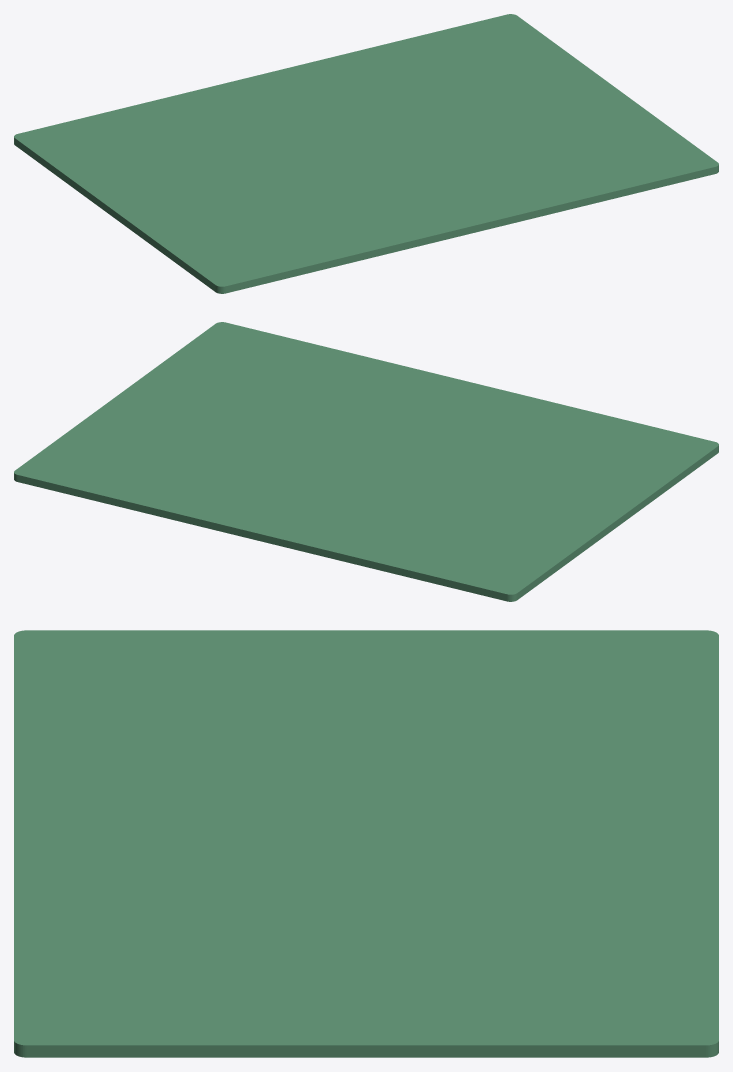
The model's file is deck_pcb.glb.
3 renders of one model, top to bottom at view 1: azimuth 30°, elevation 25°; view 2: azimuth 150°, elevation 25°; view 3: azimuth 270°, elevation 25°, orthographic. The views are drawn at different scales.
Parts seen in each view (by area): view 1: deck_pcb; view 2: deck_pcb; view 3: deck_pcb.
Boxes of the visible parts, <box> form: deck_pcb: <box>14,14,718,293</box>; deck_pcb: <box>14,322,718,601</box>; deck_pcb: <box>14,630,718,1057</box>.
Bounding box in the file's own units: 0.117 × 0.0016 × 0.084.
